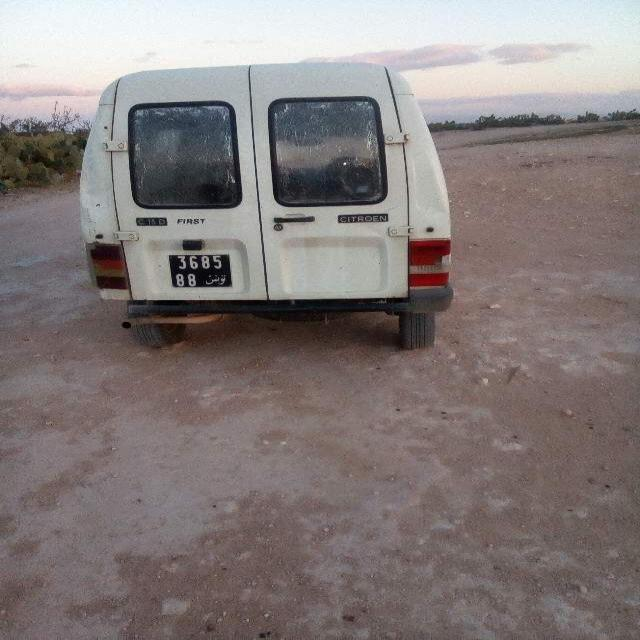LP: (164, 251, 236, 288)
